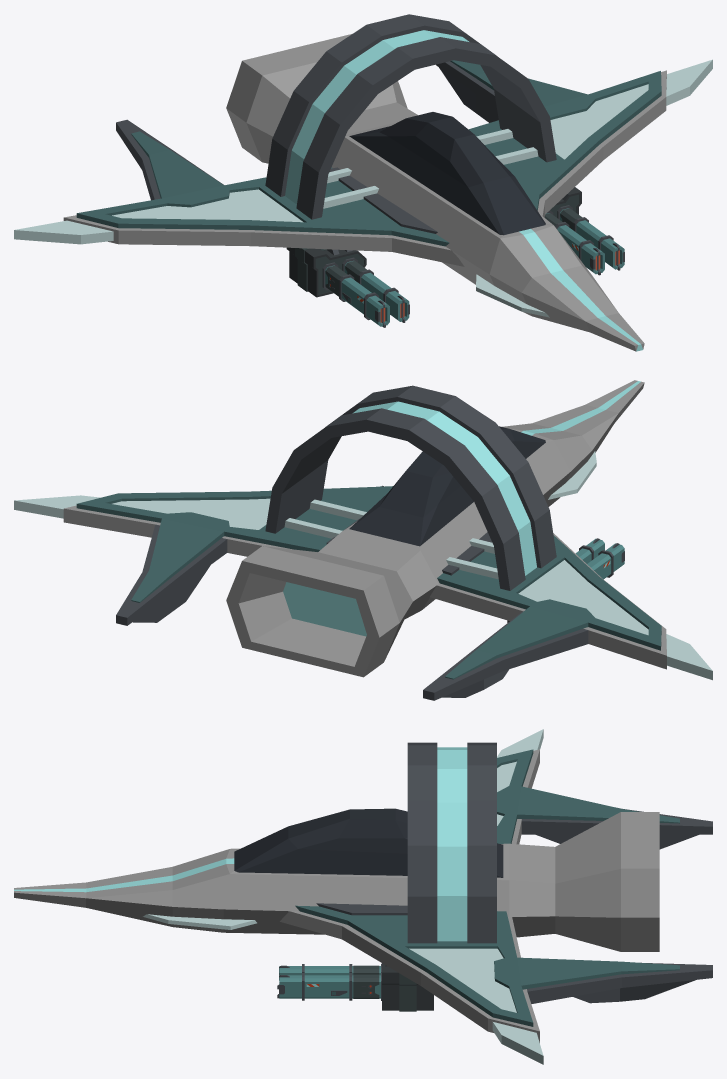
File: TP_Sci-fi06.fbx
3 renders of one model, top to bottom at view 1: azimuth 30°, elevation 25°; view 2: azimuth 150°, elevation 25°; view 3: azimuth 270°, elevation 25°, orthographic. The views are drawn at different scales.
Parts seen in each view (by area): view 1: TP_Sci_fi06; view 2: TP_Sci_fi06; view 3: TP_Sci_fi06.
Part boxes in pixels (left/top/right/bottom): TP_Sci_fi06: left=14, top=14, right=712, bottom=351; TP_Sci_fi06: left=14, top=380, right=712, bottom=700; TP_Sci_fi06: left=14, top=729, right=712, bottom=1064.
Bounding box in the file's own units: 548 × 152 × 496.
1 material, 1 textured.
